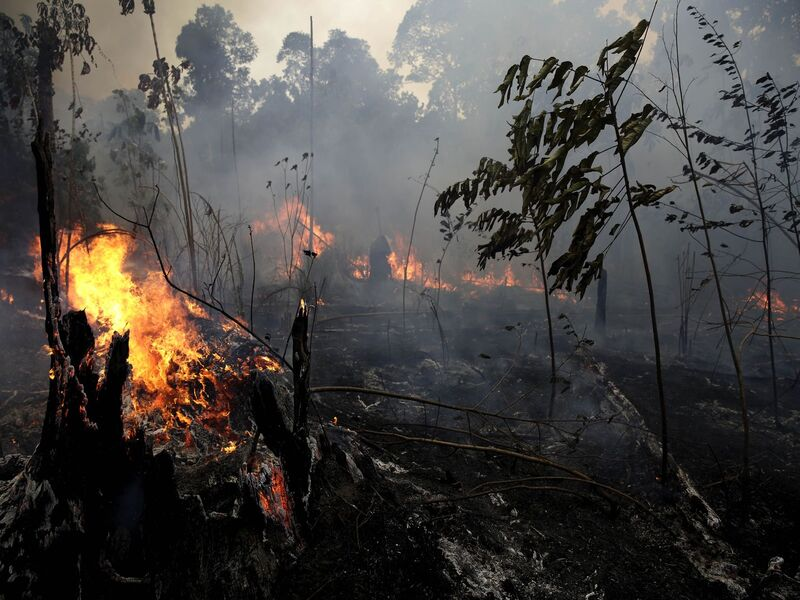fire: (57, 235, 194, 392)
